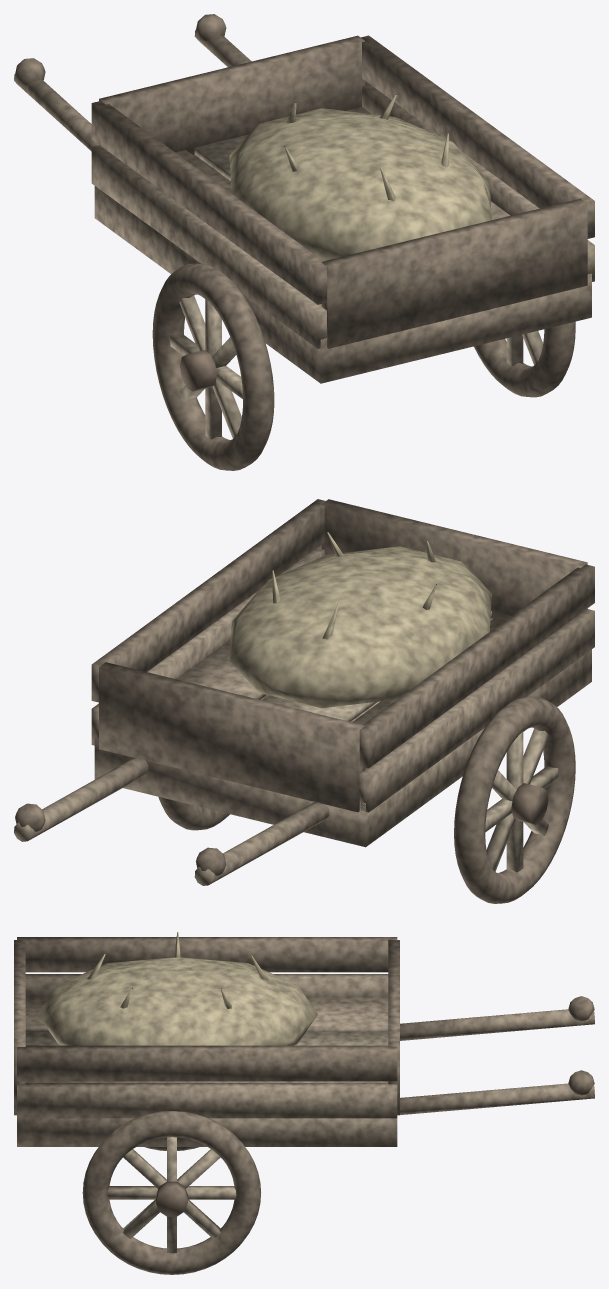
The model's file is prop_gerobak.obj.
3 renders of one model, top to bottom at view 1: azimuth 30°, elevation 25°; view 2: azimuth 150°, elevation 25°; view 3: azimuth 270°, elevation 25°, orthographic. The views are drawn at different scales.
Parts seen in each view (by area): view 1: prop_gerobak; view 2: prop_gerobak; view 3: prop_gerobak.
Part boxes in pixels (<box>): prop_gerobak: <box>14,14,594,470</box>; prop_gerobak: <box>14,499,594,903</box>; prop_gerobak: <box>14,932,594,1274</box>.
Size of the model in its own units: 1.16 by 0.9394 by 1.99.
1 material, 1 textured.
